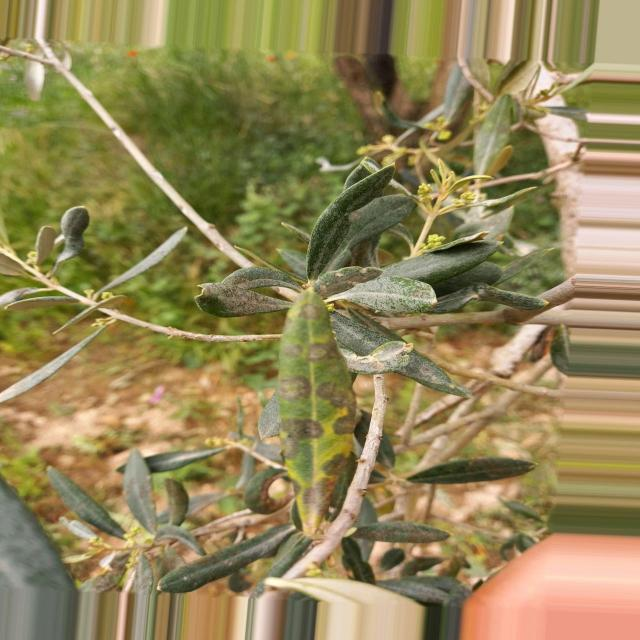Peacock Eye: (276, 291, 356, 538)
